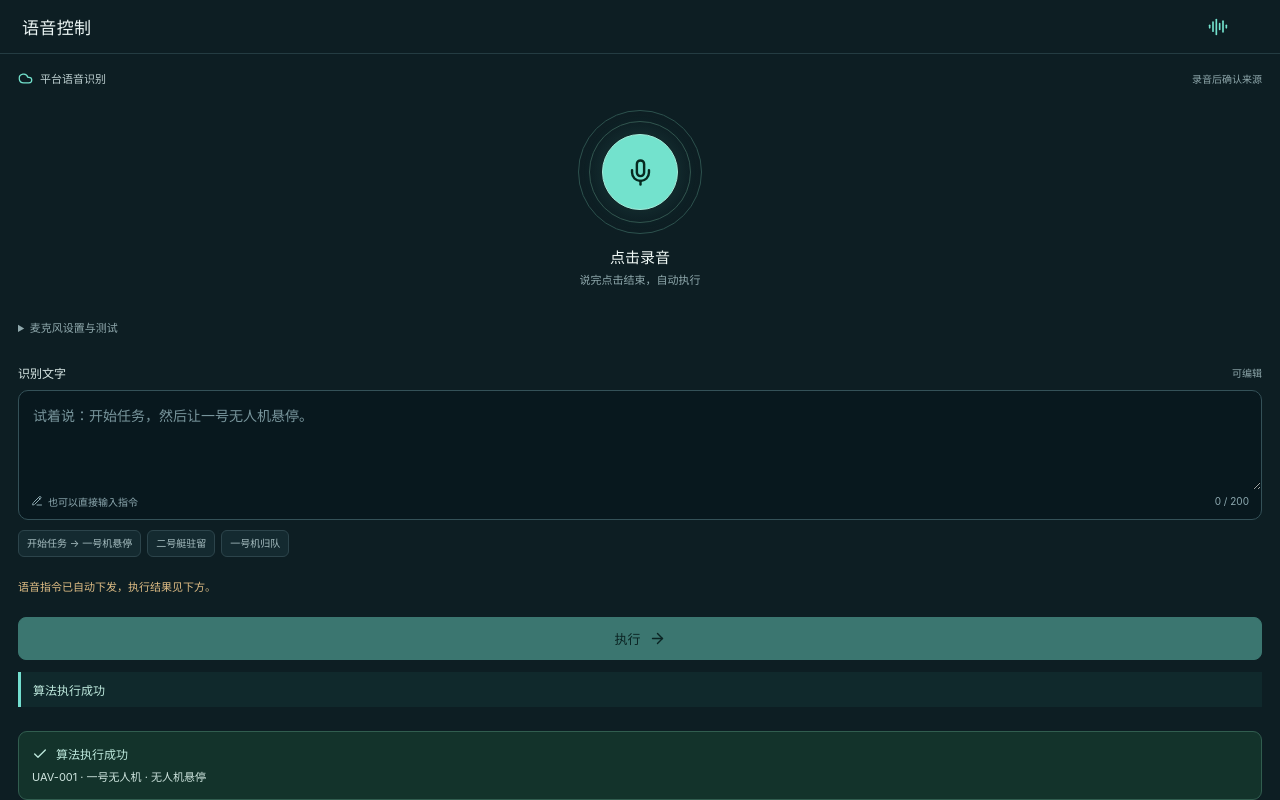
Test: VoiceP0ControlPanel refined controls › separates a previous receipt from a new draft without erasing execution state
Type "这句话不是设备指令" into the text box labelled "识别文字 可编辑 也可以直接输入指令 0 / 200" at (640, 440), box [19, 391, 1261, 490]
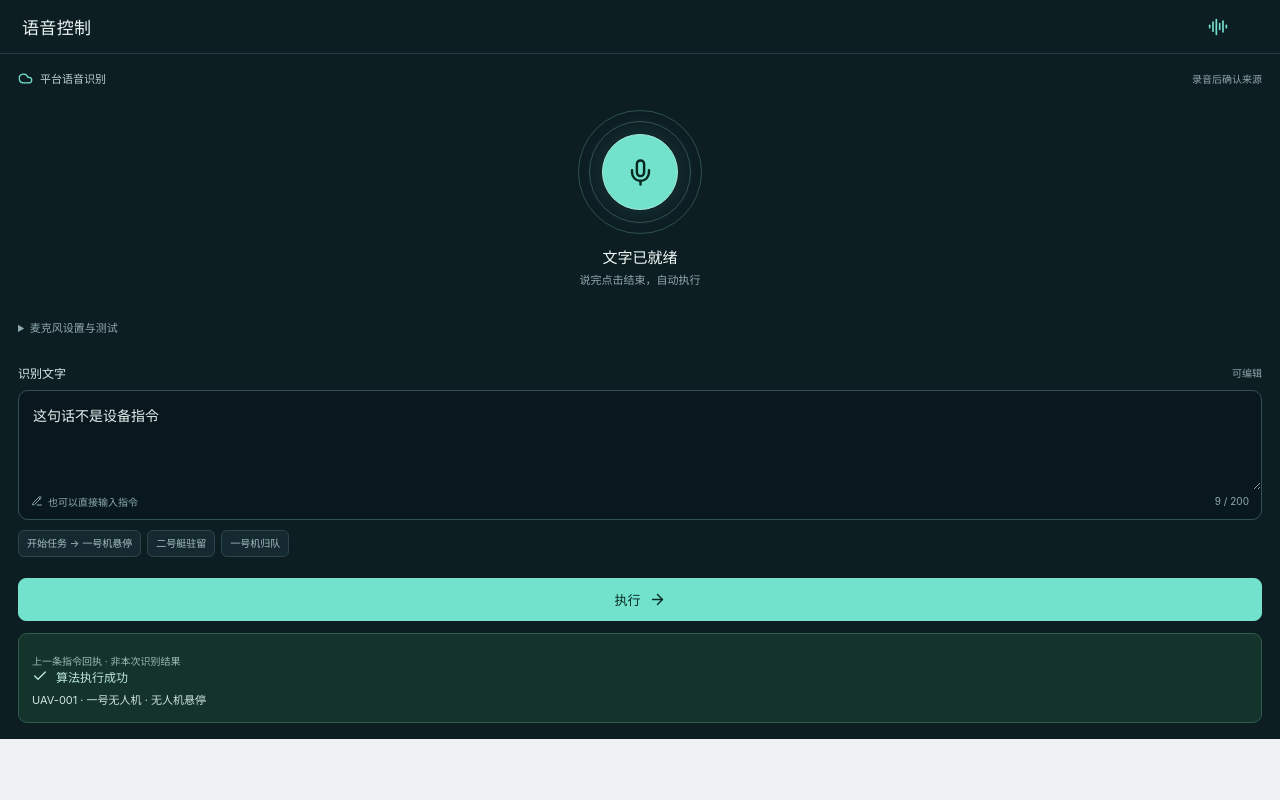
expect the text "语音指令已自动下发" is gone: met
expect the text "上一条指令回执 · 非本次识别结果" is shown: met, box [32, 655, 180, 667]
